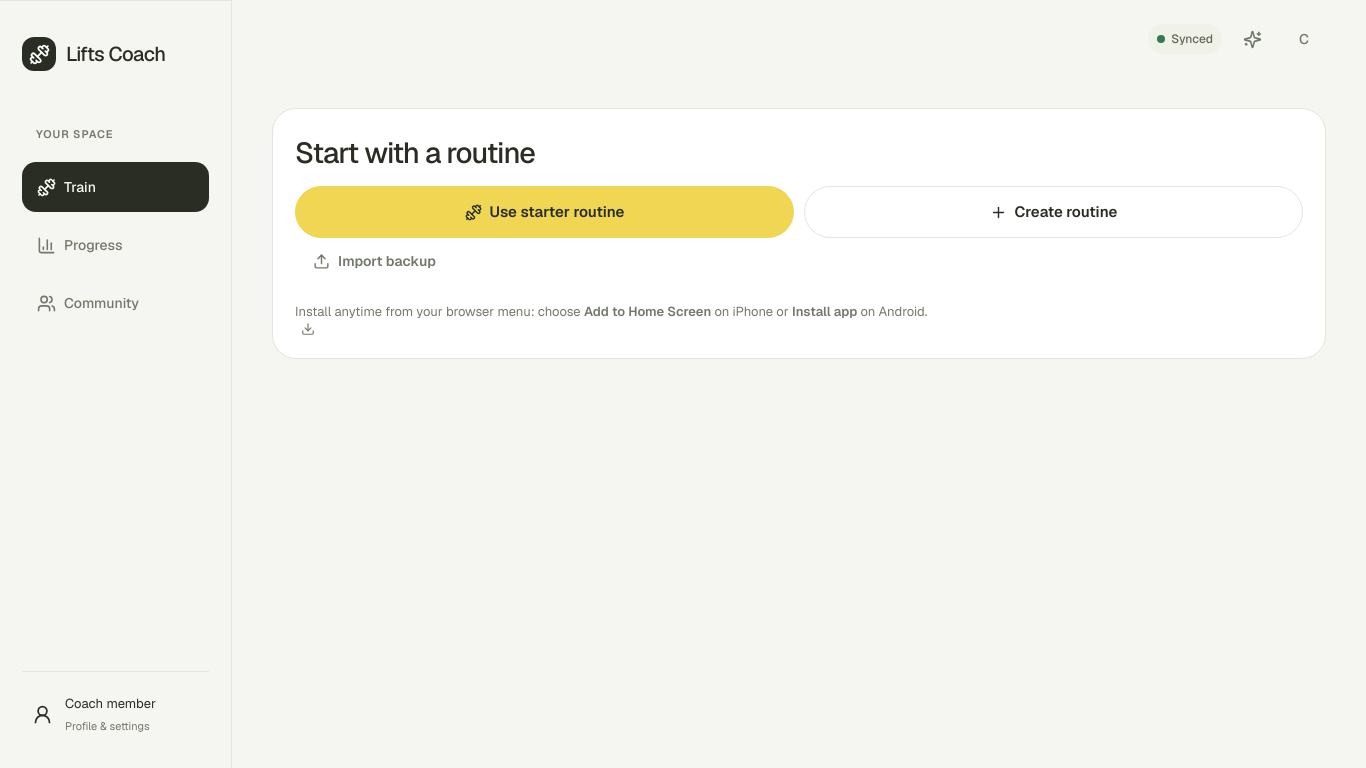
shows the server provider error instead of claiming no provider is configured
The width and height of the screenshot is (1366, 768).
Click the button named "Ask Coach".
click(1252, 39)  # box x1=1230 y1=17 x2=1274 y2=61
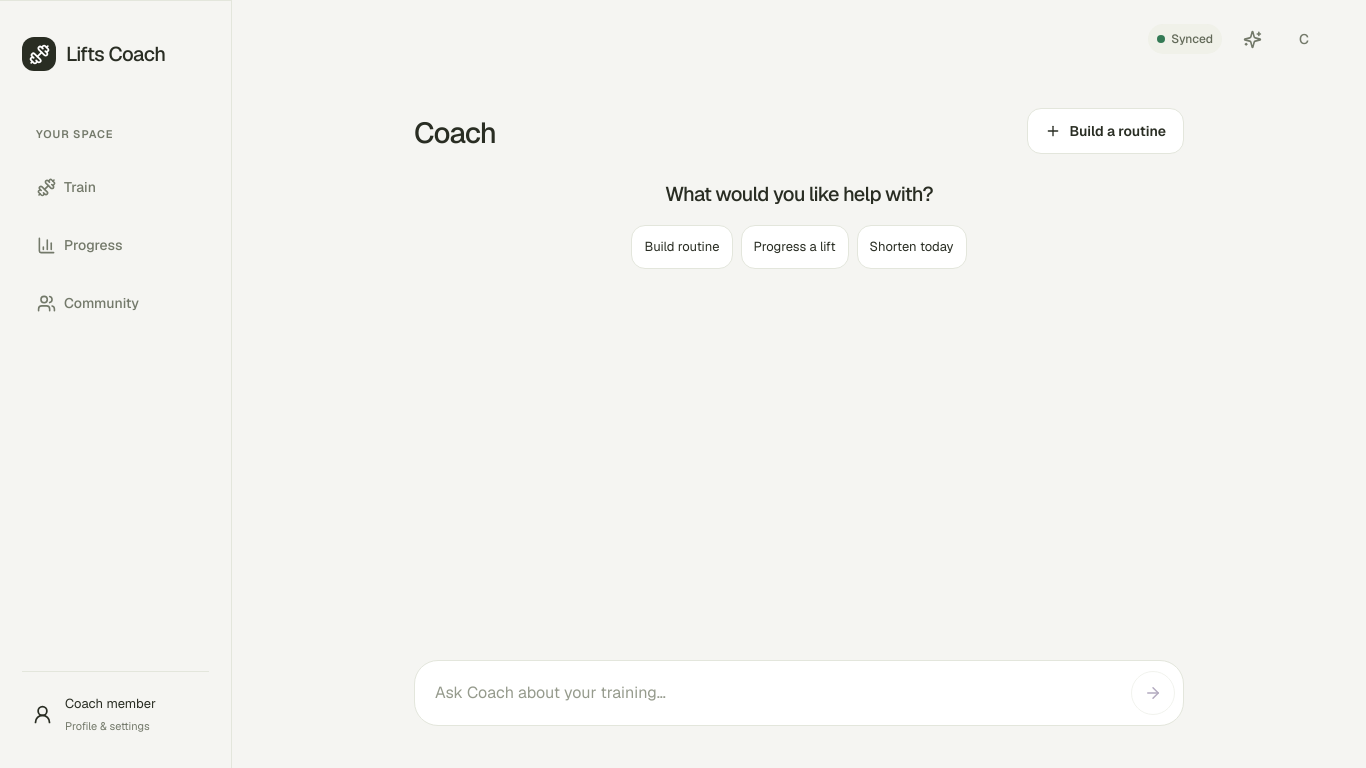
Type "Hello" into the text box named "Message Coach".
click(773, 693); type("Hello")  # box x1=423 y1=669 x2=1123 y2=717
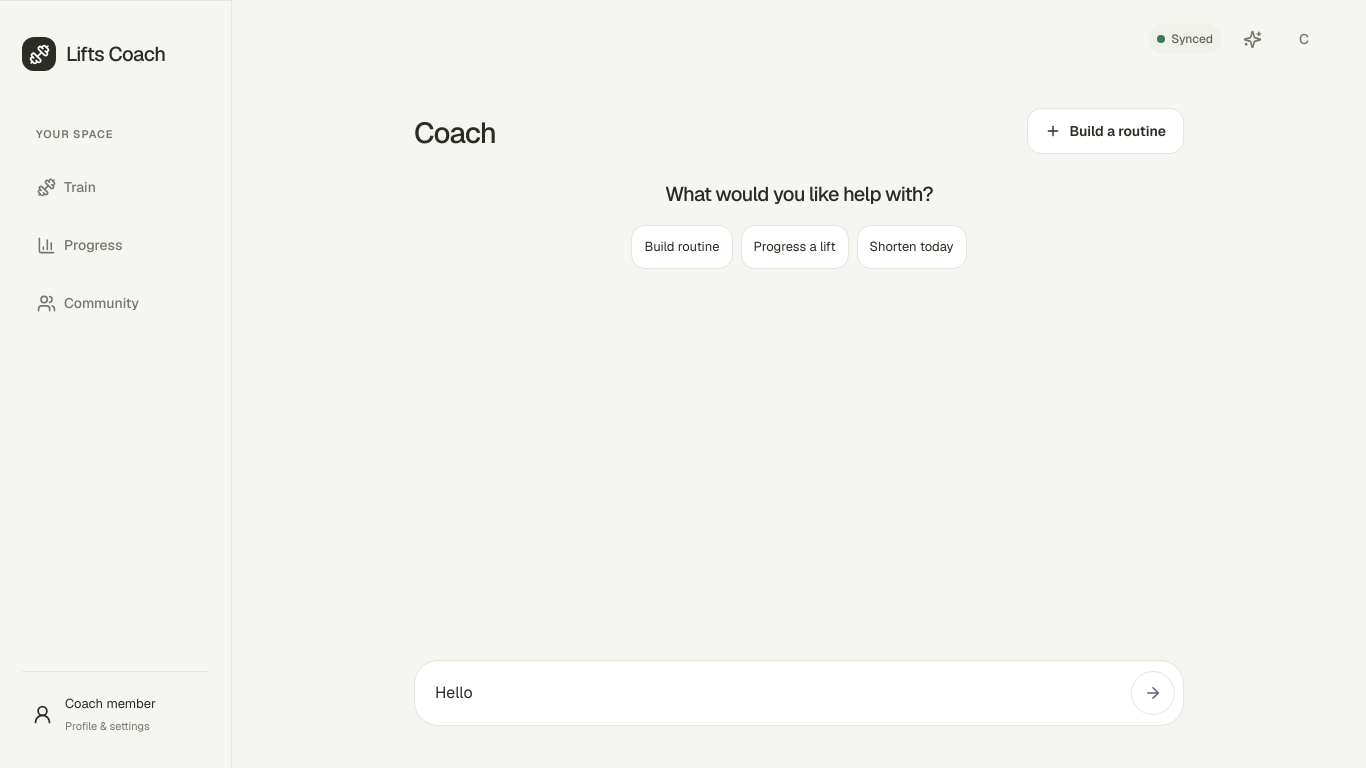
Click the button named "Send message".
click(1153, 693)  # box x1=1131 y1=671 x2=1175 y2=715
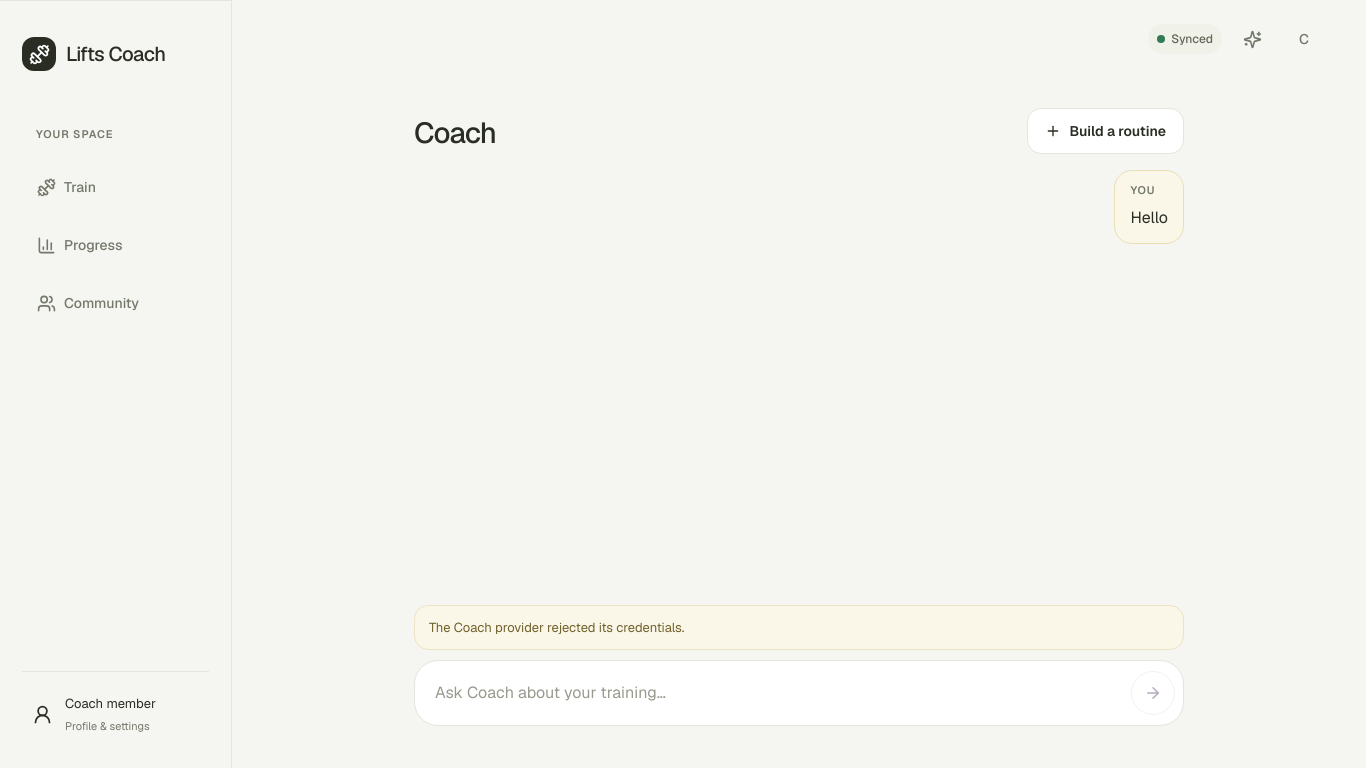
Now the text "The Coach provider rejected its credentials." is shown, box x1=414 y1=604 x2=1184 y2=650
